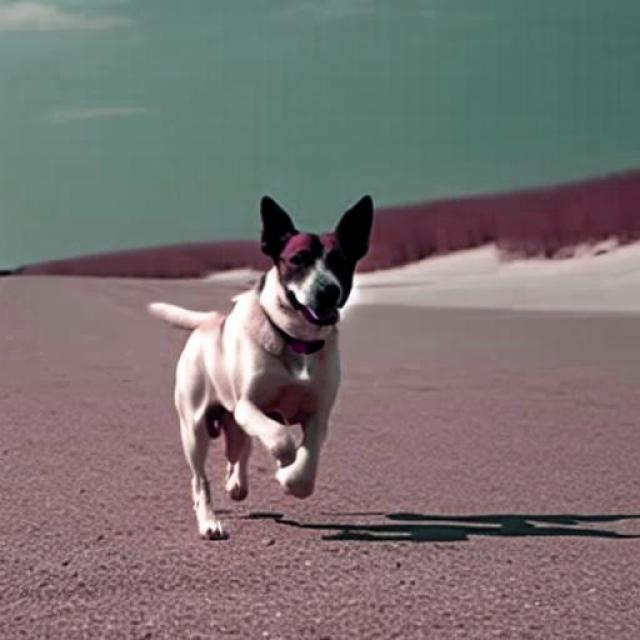Dog: (148, 194, 373, 539)
